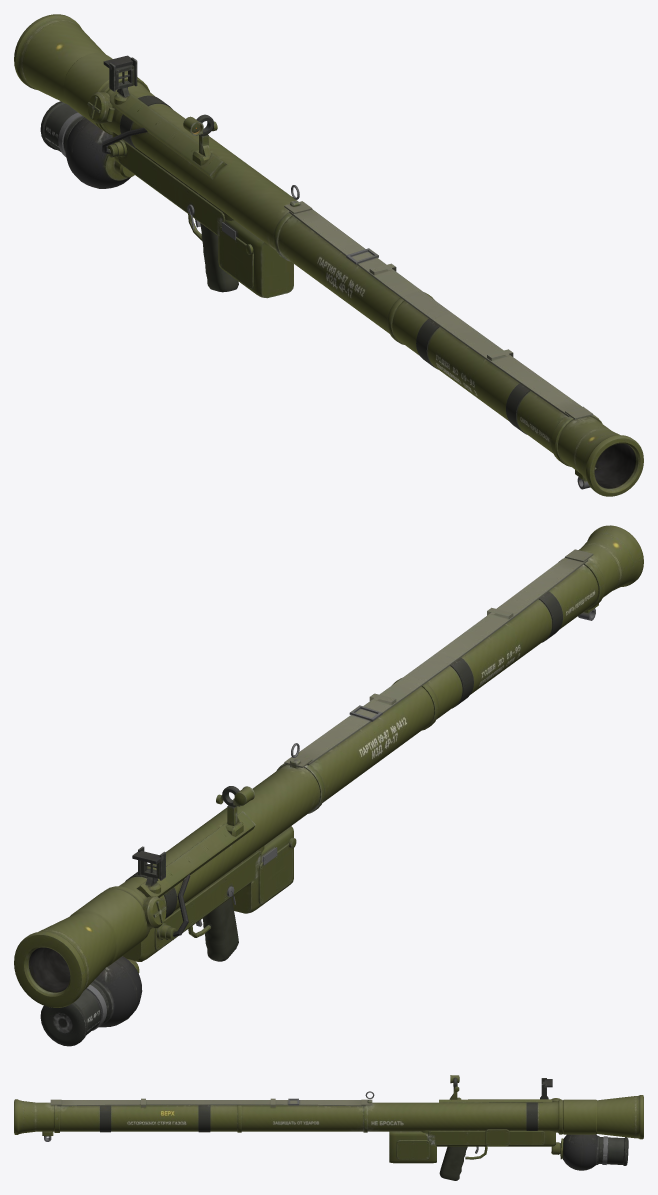
The model's file is mp_igla.glb.
3 views of the same model, one above another, from view 1: azimuth 30°, elevation 25°; view 2: azimuth 150°, elevation 25°; view 3: azimuth 270°, elevation 25° (orthographic). The views are drawn at different scales.
Parts seen in each view (by area): view 1: body|IGL_L; view 2: body|IGL_L; view 3: body|IGL_L.
Part boxes in pixels (box(x1,y1,x2,y2)): body|IGL_L: box(14, 14, 643, 496); body|IGL_L: box(14, 525, 643, 1046); body|IGL_L: box(14, 1075, 643, 1180).
Bounding box in the file's own units: 0.1359 × 0.2932 × 1.72.
Materials: 1 (1 with a texture image).
